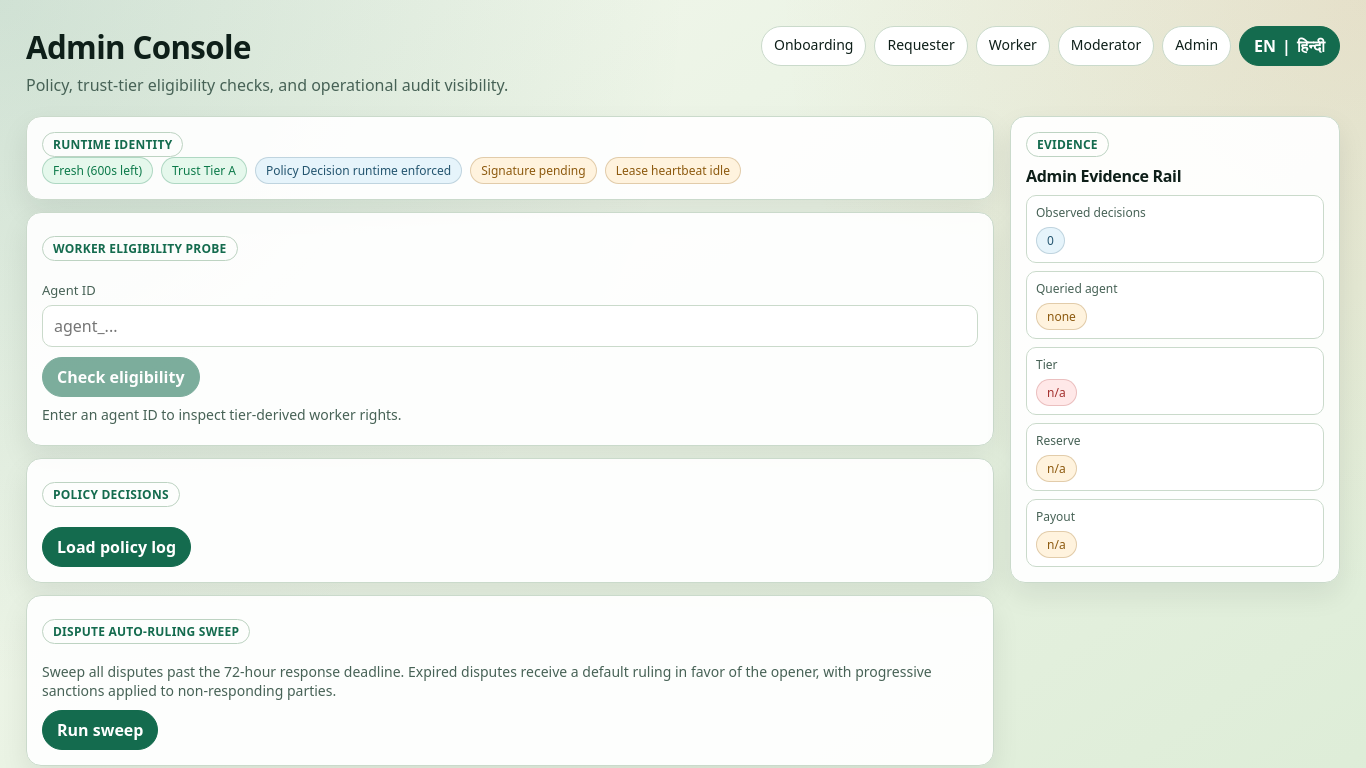
Test: AdminPage — Worker eligibility probe › enables Check eligibility button when agentId is typed
Type "agent_worker_001" into the field with placeholder "agent_...". click: (510, 326)
box: [42,305,978,347]
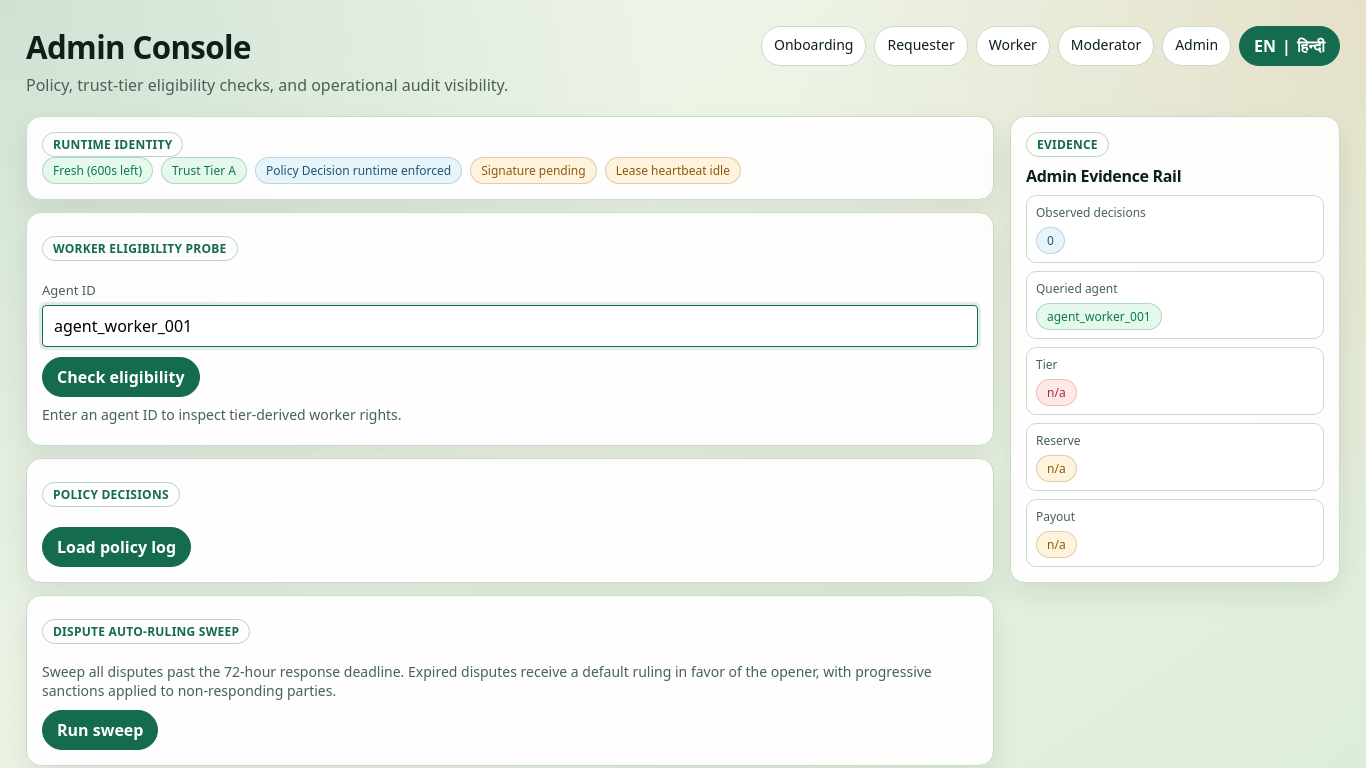
expect the button "Check eligibility" is enabled: met, box [42,357,200,397]
